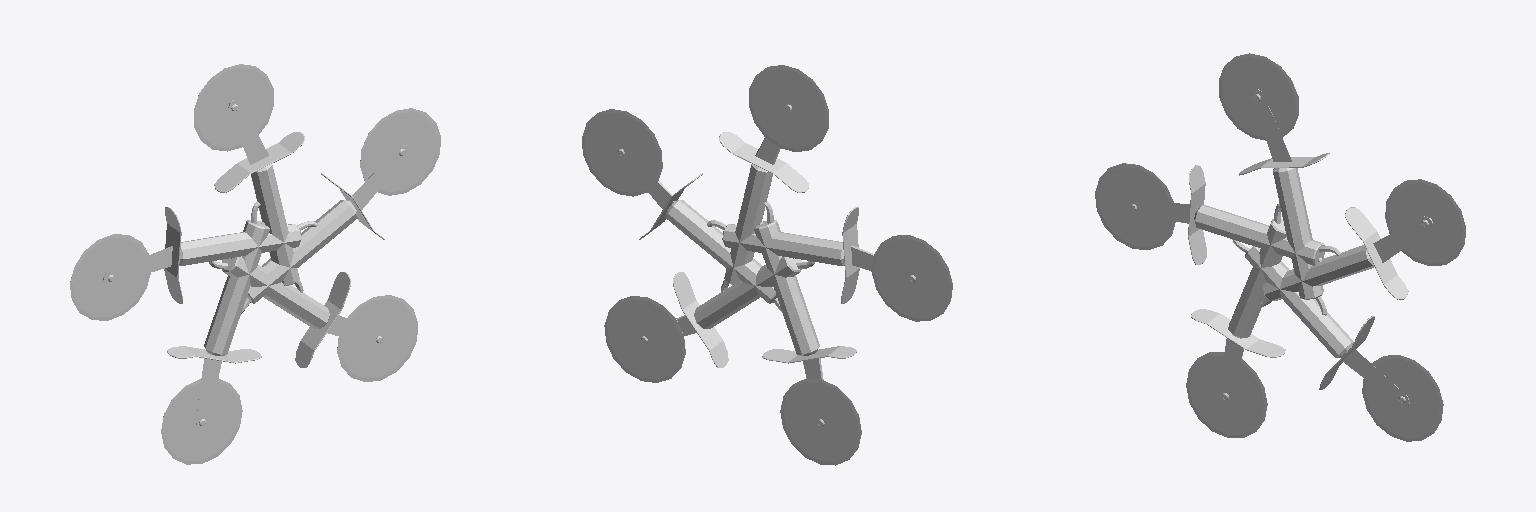
The model's file is knife.1.1.3.obj.
3 views of the same model, side by side, from view 1: azimuth 30°, elevation 25°; view 2: azimuth 150°, elevation 25°; view 3: azimuth 330°, elevation 25° (orthographic).
Visible parts, largest first — view 1: Pizza_Cutter_Cylinder.003_Pizza_Cutter_Cylinder.004, Pizza_Cutter_Cylinder.010, Pizza_Cutter_Cylinder.013, Pizza_Cutter_Cylinder.006_Pizza_Cutter_Cylinder.007, Pizza_Cutter_Cylinder.016_Pizza_Cutter_Cylinder.001; view 2: Pizza_Cutter_Cylinder.003_Pizza_Cutter_Cylinder.004, Pizza_Cutter_Cylinder.010, Pizza_Cutter_Cylinder.013, Pizza_Cutter_Cylinder.006_Pizza_Cutter_Cylinder.007, Pizza_Cutter_Cylinder.016_Pizza_Cutter_Cylinder.001; view 3: Pizza_Cutter_Cylinder.016_Pizza_Cutter_Cylinder.001, Pizza_Cutter_Cylinder.006_Pizza_Cutter_Cylinder.007, Pizza_Cutter_Cylinder.013, Pizza_Cutter_Cylinder.003_Pizza_Cutter_Cylinder.004, Pizza_Cutter_Cylinder.010.
Boxes of the visible parts, x1=… form: Pizza_Cutter_Cylinder.003_Pizza_Cutter_Cylinder.004: x1=194, y1=64, x2=304, y2=292; Pizza_Cutter_Cylinder.010: x1=209, y1=256, x2=417, y2=381; Pizza_Cutter_Cylinder.013: x1=161, y1=201, x2=269, y2=464; Pizza_Cutter_Cylinder.006_Pizza_Cutter_Cylinder.007: x1=70, y1=207, x2=317, y2=320; Pizza_Cutter_Cylinder.016_Pizza_Cutter_Cylinder.001: x1=241, y1=108, x2=440, y2=313; Pizza_Cutter_Cylinder.003_Pizza_Cutter_Cylinder.004: x1=719, y1=65, x2=828, y2=292; Pizza_Cutter_Cylinder.010: x1=604, y1=256, x2=814, y2=382; Pizza_Cutter_Cylinder.013: x1=754, y1=201, x2=861, y2=465; Pizza_Cutter_Cylinder.006_Pizza_Cutter_Cylinder.007: x1=707, y1=207, x2=952, y2=321; Pizza_Cutter_Cylinder.016_Pizza_Cutter_Cylinder.001: x1=582, y1=109, x2=781, y2=311; Pizza_Cutter_Cylinder.016_Pizza_Cutter_Cylinder.001: x1=1260, y1=179, x2=1465, y2=306; Pizza_Cutter_Cylinder.006_Pizza_Cutter_Cylinder.007: x1=1095, y1=163, x2=1340, y2=265; Pizza_Cutter_Cylinder.013: x1=1186, y1=203, x2=1286, y2=437; Pizza_Cutter_Cylinder.003_Pizza_Cutter_Cylinder.004: x1=1219, y1=53, x2=1329, y2=315; Pizza_Cutter_Cylinder.010: x1=1232, y1=239, x2=1443, y2=441.
Bounding box in the file's own units: 0.3665 × 0.3682 × 0.0238.